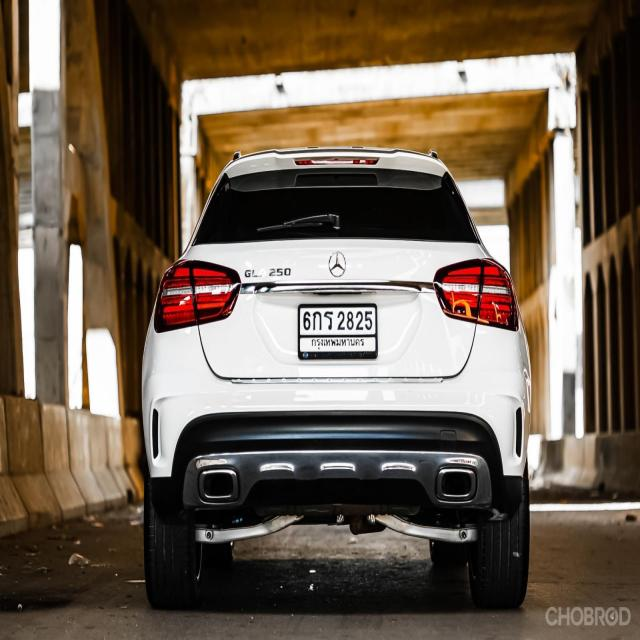license_plate: (297, 301, 378, 362)
